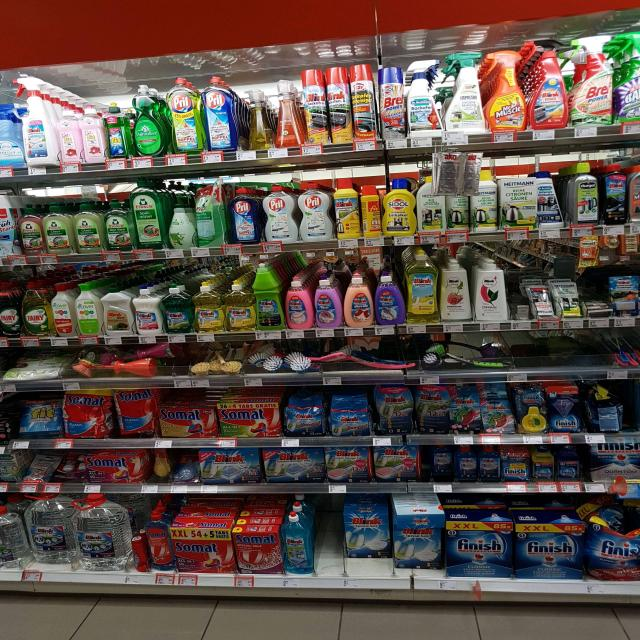empty: (515, 323, 614, 382), (305, 494, 349, 582)
